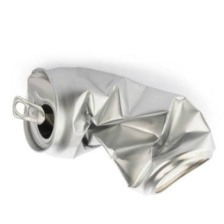can: (6, 63, 220, 198)
